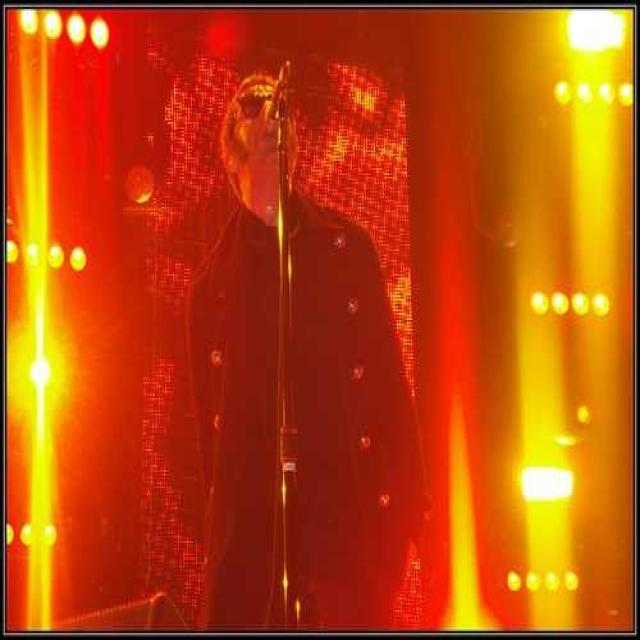microphone: (251, 60, 295, 162)
